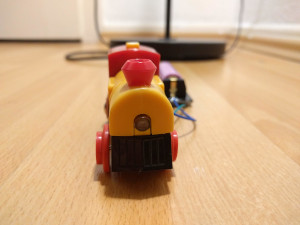brio: (92, 39, 180, 179)
